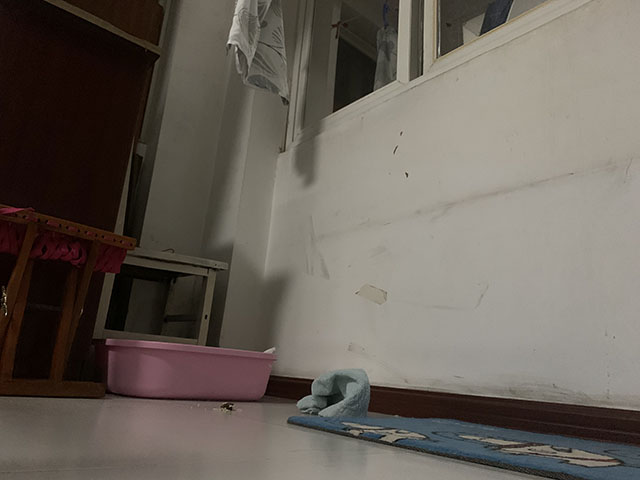cabinet: (1, 1, 167, 390)
carpet: (286, 414, 640, 479)
stool: (91, 133, 230, 347), (1, 205, 139, 400)
